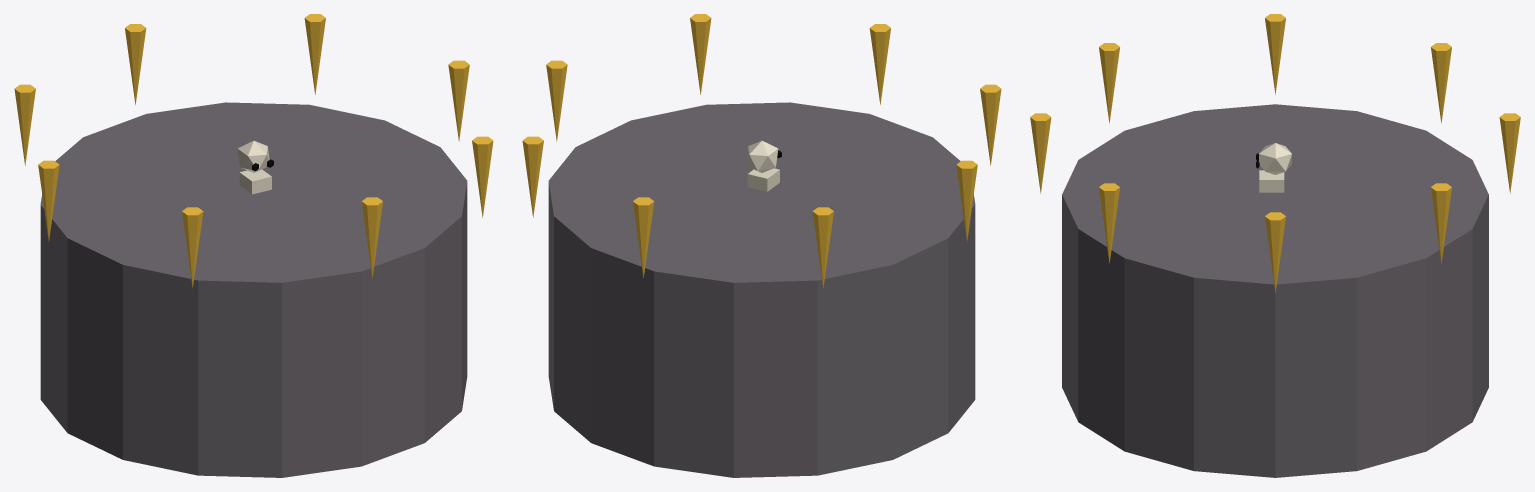
The model's file is Bld_OR_Cistern_03.glb.
3 renders of one model, left to right at view 1: azimuth 30°, elevation 25°; view 2: azimuth 150°, elevation 25°; view 3: azimuth 270°, elevation 25°, orthographic.
Visible parts, largest first — view 1: Bld_OR_Cistern_03; view 2: Bld_OR_Cistern_03; view 3: Bld_OR_Cistern_03.
Boxes of the visible parts, left/top/right/bottom form: Bld_OR_Cistern_03: left=14, top=14, right=493, bottom=477; Bld_OR_Cistern_03: left=522, top=14, right=1001, bottom=477; Bld_OR_Cistern_03: left=1030, top=14, right=1520, bottom=477.
Bounding box in the file's own units: 13.72 × 8.4 × 13.8.
